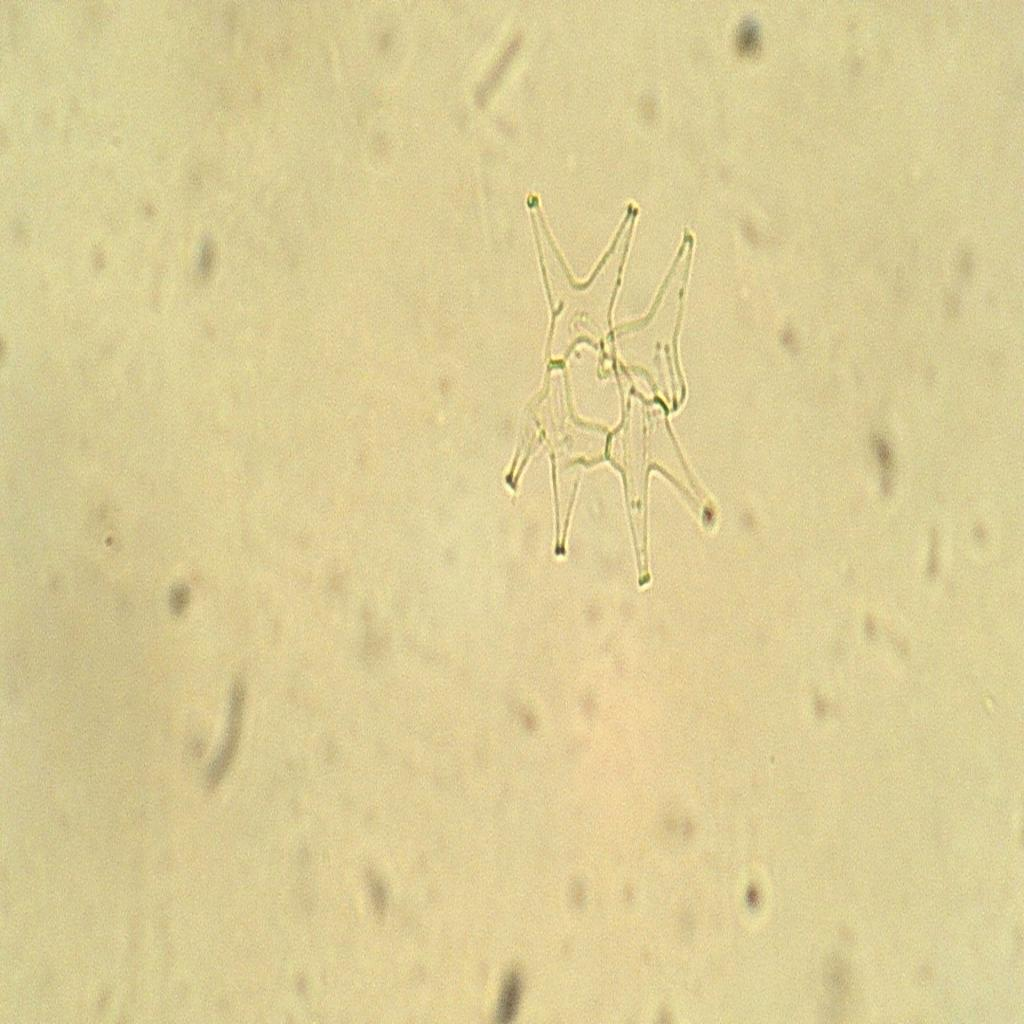Pediastrum_1F0: (495, 165, 734, 594)
